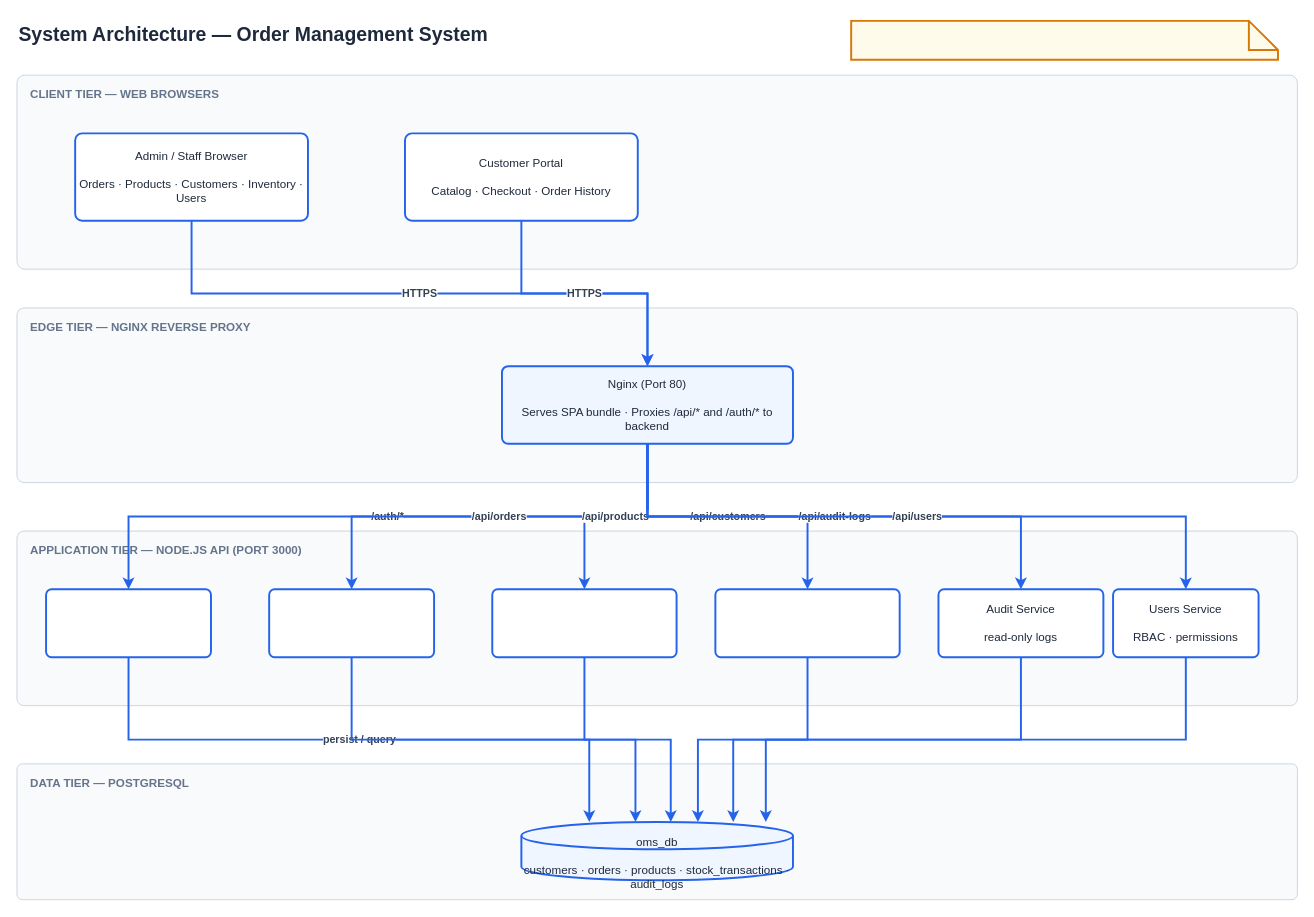
The diagram is 1314 pixels wide and 917 high, and some of its shapes have lost their labels. Here are the shapes that lost their labels. From the top down, the centre of each, then its label:
the point at 1064,39: Cookie-based sessions · every request sends credentials: include
the point at 128,623: Auth Service /admin · /customer
the point at 351,623: Orders Service CRUD · line items
the point at 584,623: Products & Inventory stock · reorder alerts
the point at 807,623: Customers & Templates forms · groups · portal
